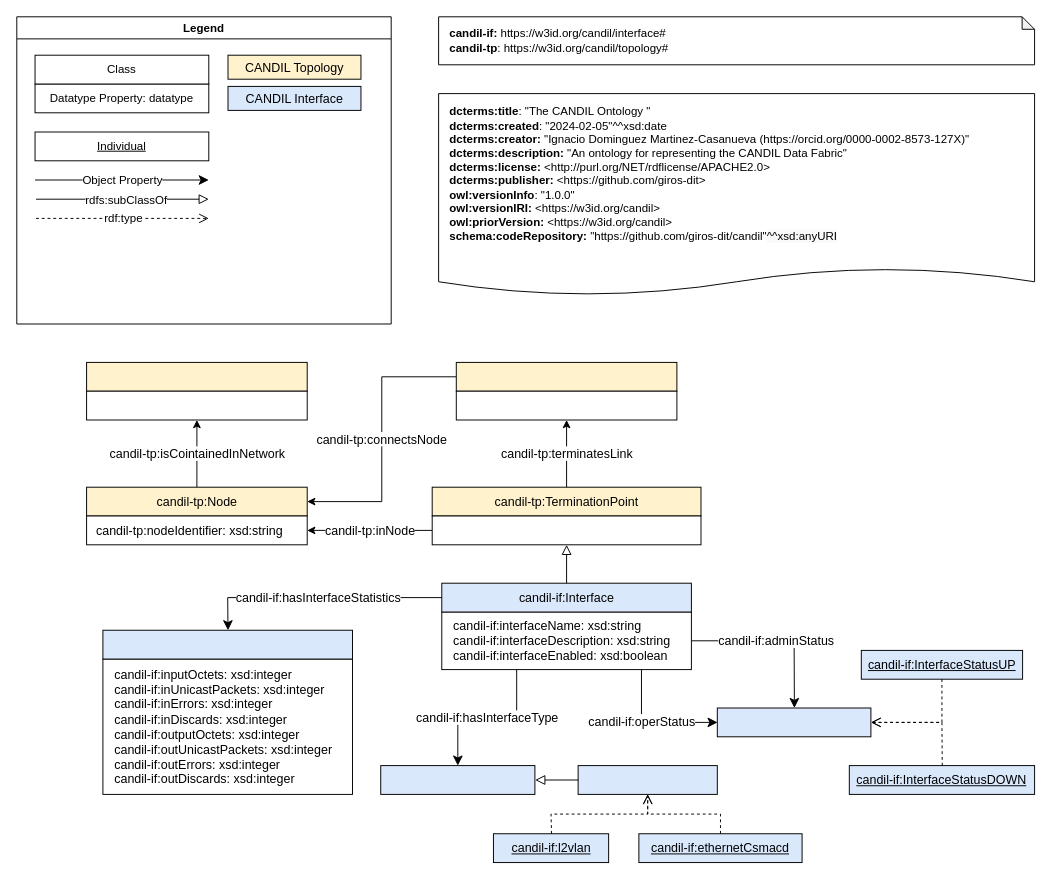
Image size: 1052x879. Some labels were removed from this diagram. The shapes that lost their labels are listed below. From the top down, each one's centre as x and y in pixels, then its label:
At [196,376]: "candil-tp:Network".
At [566,376]: "candil-tp:Link".
At [196,405]: "candil-tp:networkIdentifier: xsd:string".
At [566,405]: "candil-tp:linkIdentifier: xsd:string".
At [566,530]: "candil-tp:terminationPointIdentifier: xsd:string".
At [227,644]: "candil-if:InterfaceStatistics".
At [793,722]: "candil-if:InterfaceStatus".
At [457,779]: "candil-if:InterfaceType".
At [647,779]: "candil-if:lnterfaceIANA".
